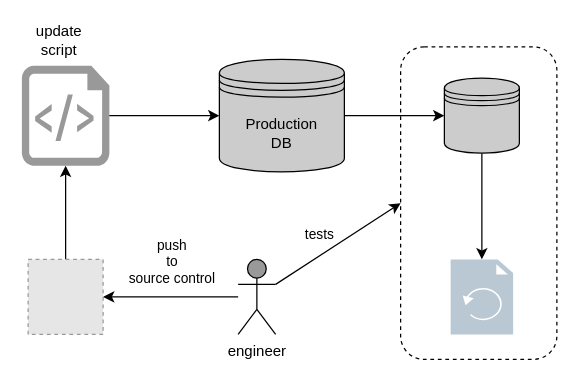
Some shapes in this 579 by 381 pixel diagram are drawn without their labels. Grey dashed boxes stand in for pictures. Each missing label, with the box of its shape:
backup: (443, 77, 519, 153)
backup process: (399, 46, 557, 359)
